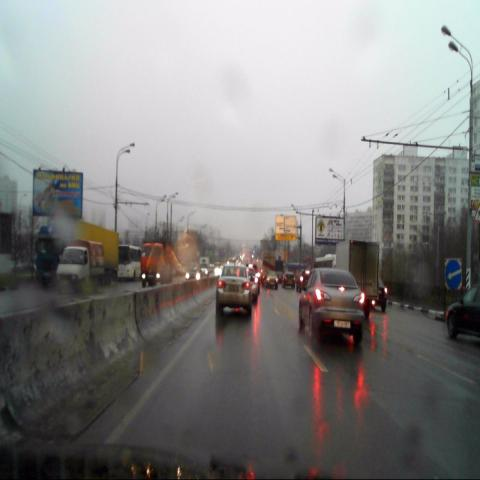4_2_2: (444, 257, 462, 289)
